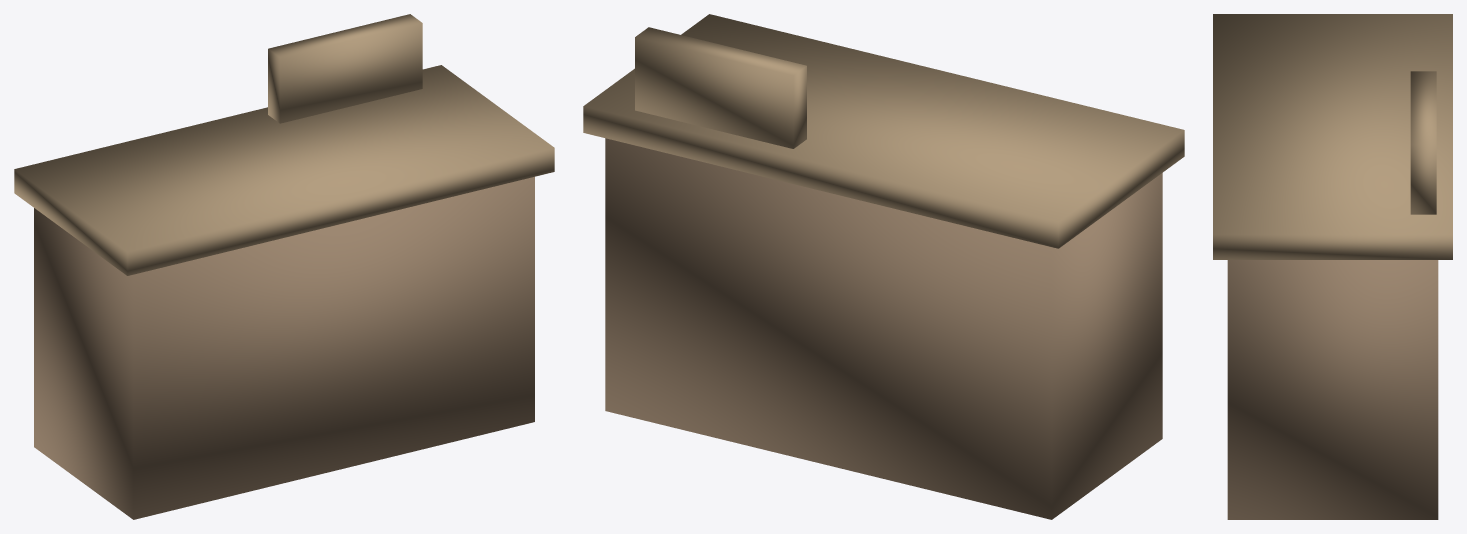
Rendered from clerk_counter__compact.glb.
3 renders of one model, left to right at view 1: azimuth 30°, elevation 25°; view 2: azimuth 150°, elevation 25°; view 3: azimuth 270°, elevation 25°, orthographic. The views are drawn at different scales.
Parts seen in each view (by area): view 1: world; view 2: world; view 3: world.
Boxes of the visible parts, x1=… form: world: x1=14, y1=14, x2=554, y2=519; world: x1=583, y1=14, x2=1184, y2=519; world: x1=1213, y1=14, x2=1452, y2=519.
Size of the model in its own units: 1.39 by 1.06 by 0.6364.
